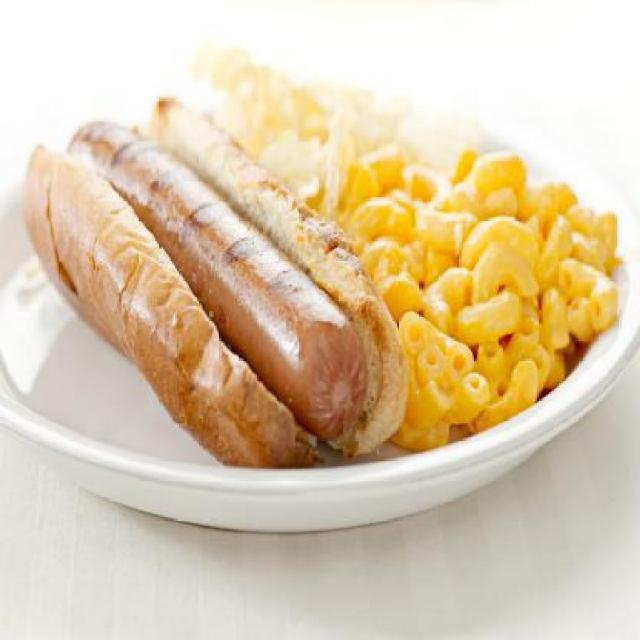hot dog: (24, 86, 405, 492)
macaroni and cheese: (404, 47, 618, 447), (208, 45, 412, 282)
